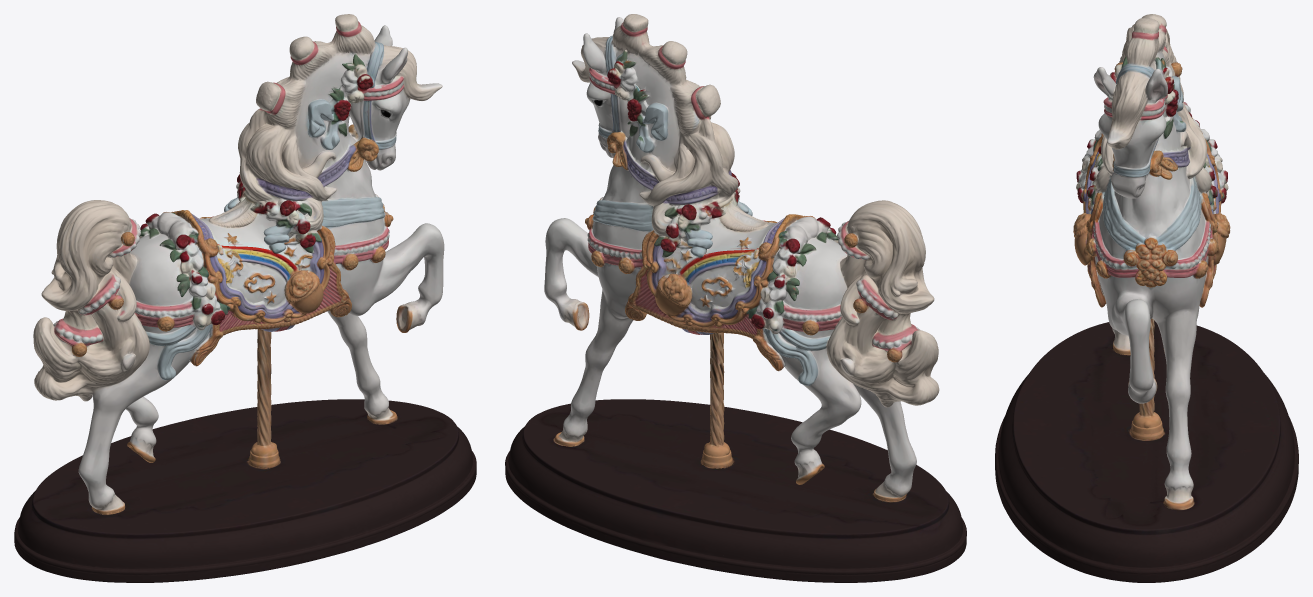
The model's file is Modelo 3.glb.
The picture shows the model from 3 angles, left to right: view 1: azimuth 30°, elevation 25°; view 2: azimuth 150°, elevation 25°; view 3: azimuth 270°, elevation 25°; orthographic projection. The views are drawn at different scales.
Parts seen in each view (by area): view 1: tripo_node_8960dd52-9eff-401b-9fcb-28a5392529c2; view 2: tripo_node_8960dd52-9eff-401b-9fcb-28a5392529c2; view 3: tripo_node_8960dd52-9eff-401b-9fcb-28a5392529c2.
Boxes of the visible parts, <box> form: tripo_node_8960dd52-9eff-401b-9fcb-28a5392529c2: <box>14,14,476,582</box>; tripo_node_8960dd52-9eff-401b-9fcb-28a5392529c2: <box>505,14,966,582</box>; tripo_node_8960dd52-9eff-401b-9fcb-28a5392529c2: <box>995,14,1298,582</box>.
Size of the model in its own units: 0.9614 by 0.9784 by 0.5381.
1 material, 1 textured.
